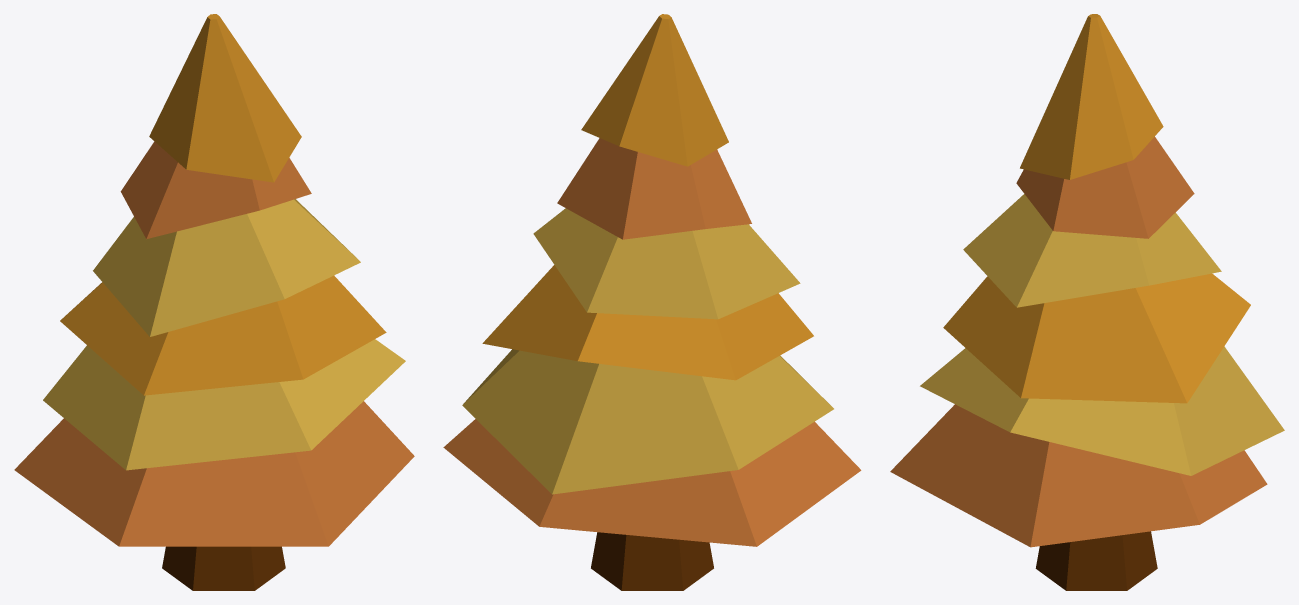
Rendered from Tree2_Orange_B.fbx.
The picture shows the model from 3 angles, left to right: view 1: azimuth 30°, elevation 25°; view 2: azimuth 150°, elevation 25°; view 3: azimuth 270°, elevation 25°; orthographic projection.
Parts seen in each view (by area): view 1: Tree_2_Orange; view 2: Tree_2_Orange; view 3: Tree_2_Orange.
Part boxes in pixels (x1,y1,x2,y2): Tree_2_Orange: [14, 14, 414, 590]; Tree_2_Orange: [443, 14, 861, 590]; Tree_2_Orange: [890, 14, 1284, 590].
Size of the model in its own units: 587 by 990 by 647.
